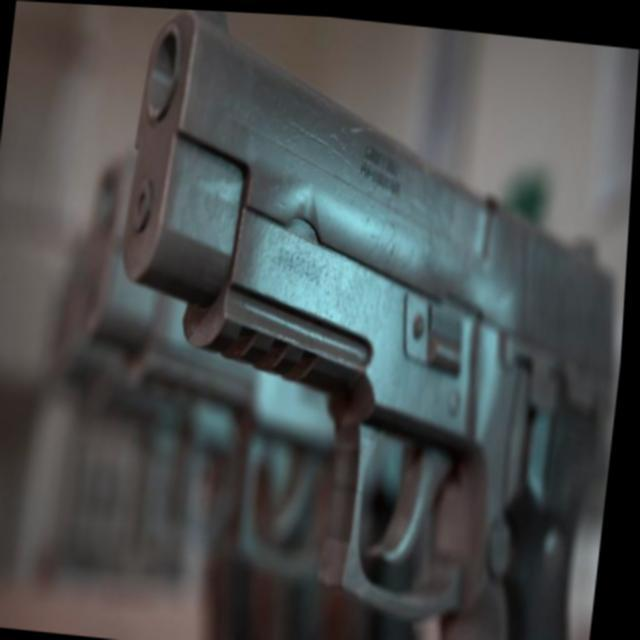weapon: (83, 5, 640, 640)
